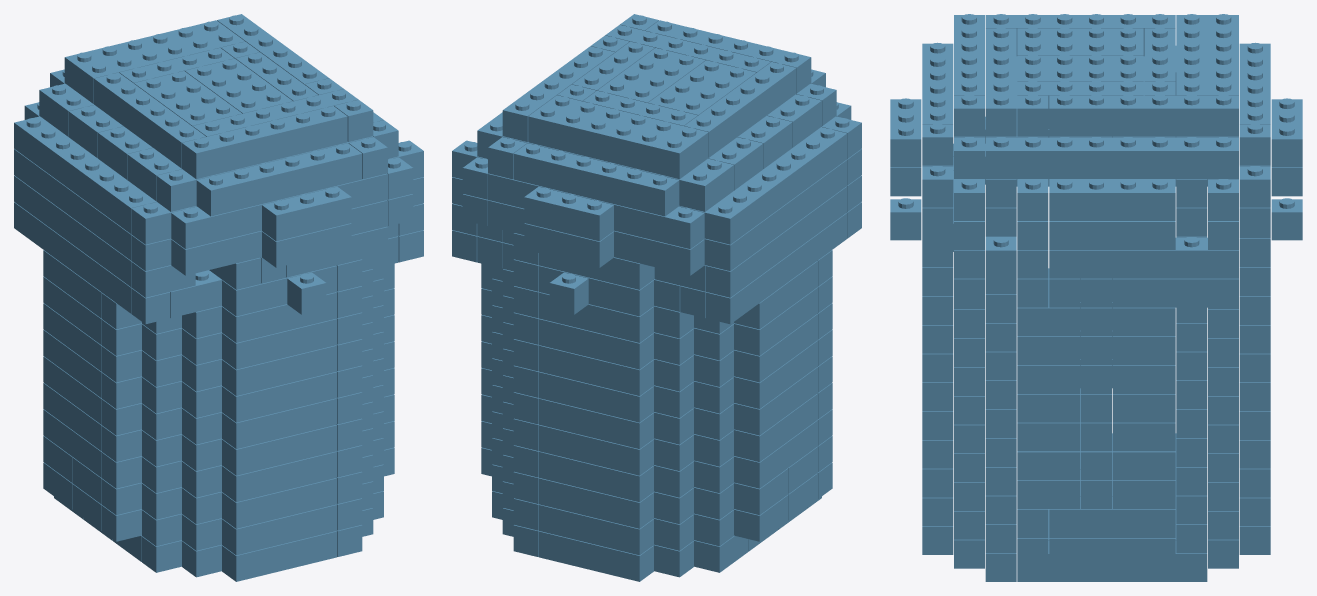
The model's file is 056_birdhouse_L1.glb.
The picture shows the model from 3 angles, left to right: view 1: azimuth 30°, elevation 25°; view 2: azimuth 150°, elevation 25°; view 3: azimuth 270°, elevation 25°; orthographic projection. The views are drawn at different scales.
Size of the model in its own units: 10.98 by 16.13 by 12.98.
